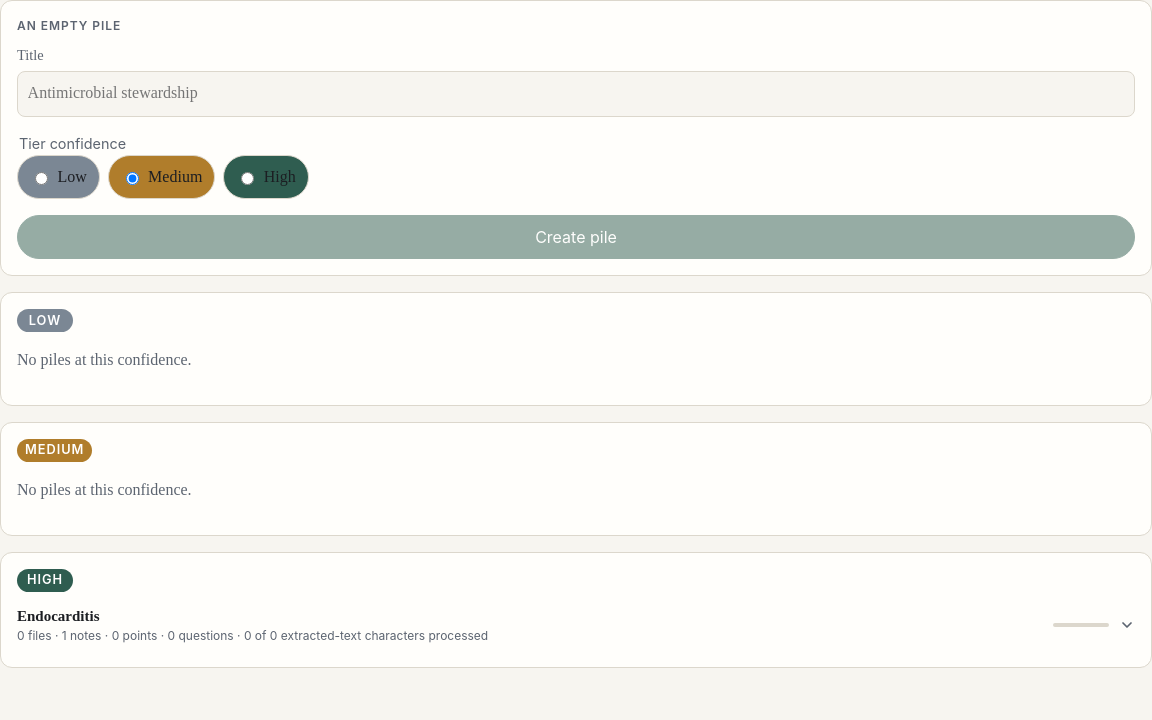
entering a learning item › offers a body field, not only a title and a source
The width and height of the screenshot is (1152, 720).
Click the button "Endocarditis" at x=58, y=616, box [17, 600, 1135, 651]
(page scrolled)
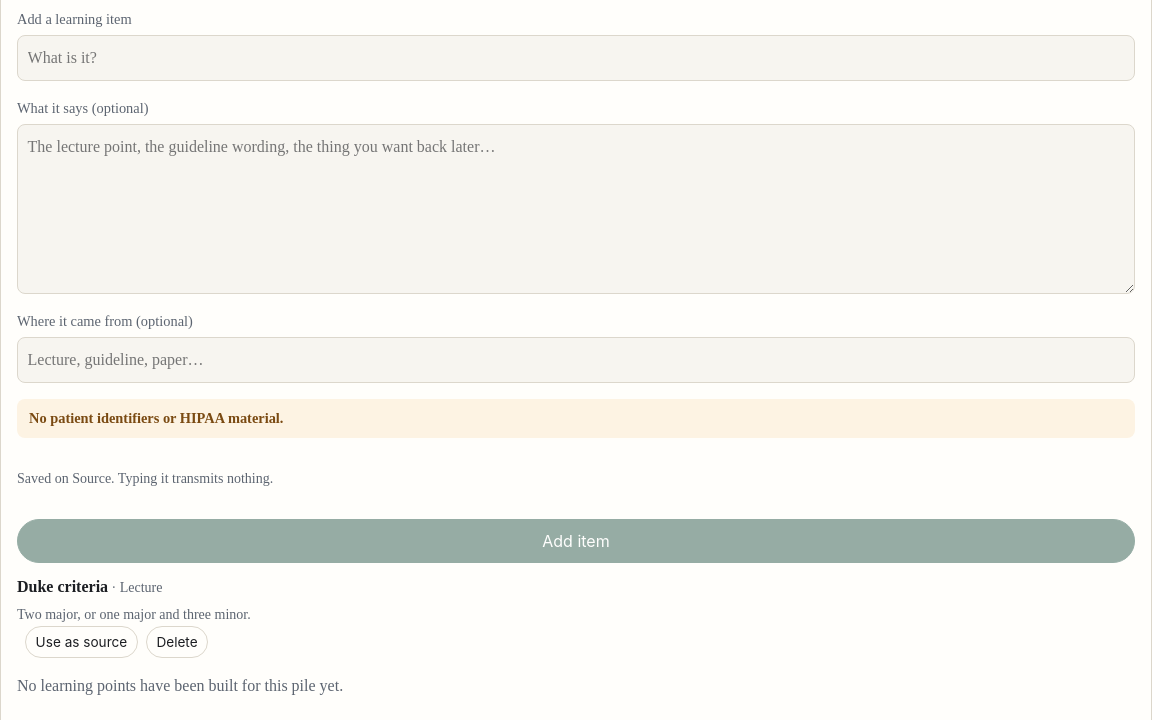
Expected: the field labelled "Add a learning item" is shown, [17, 35, 1135, 81]
Expected: the field labelled "Where it came from (optional)" is shown, [17, 337, 1135, 383]
